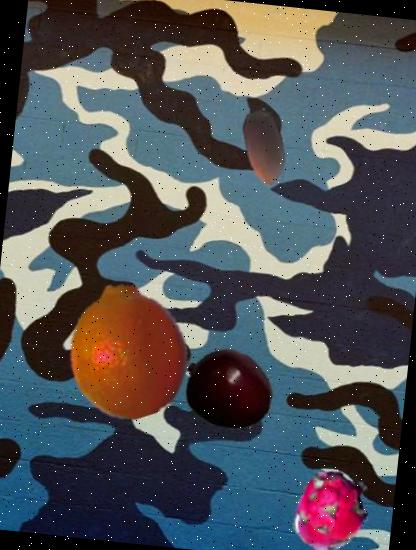Cherry: (178, 338, 280, 440)
Hazelnut: (222, 106, 308, 192)
Pitahaya: (284, 466, 375, 550)
Tangelo: (52, 276, 202, 427)
